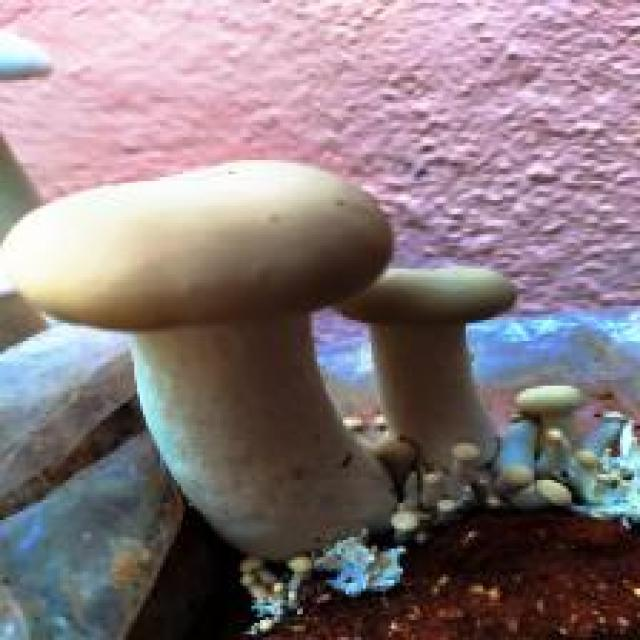field-mushroom: (0, 154, 403, 563)
